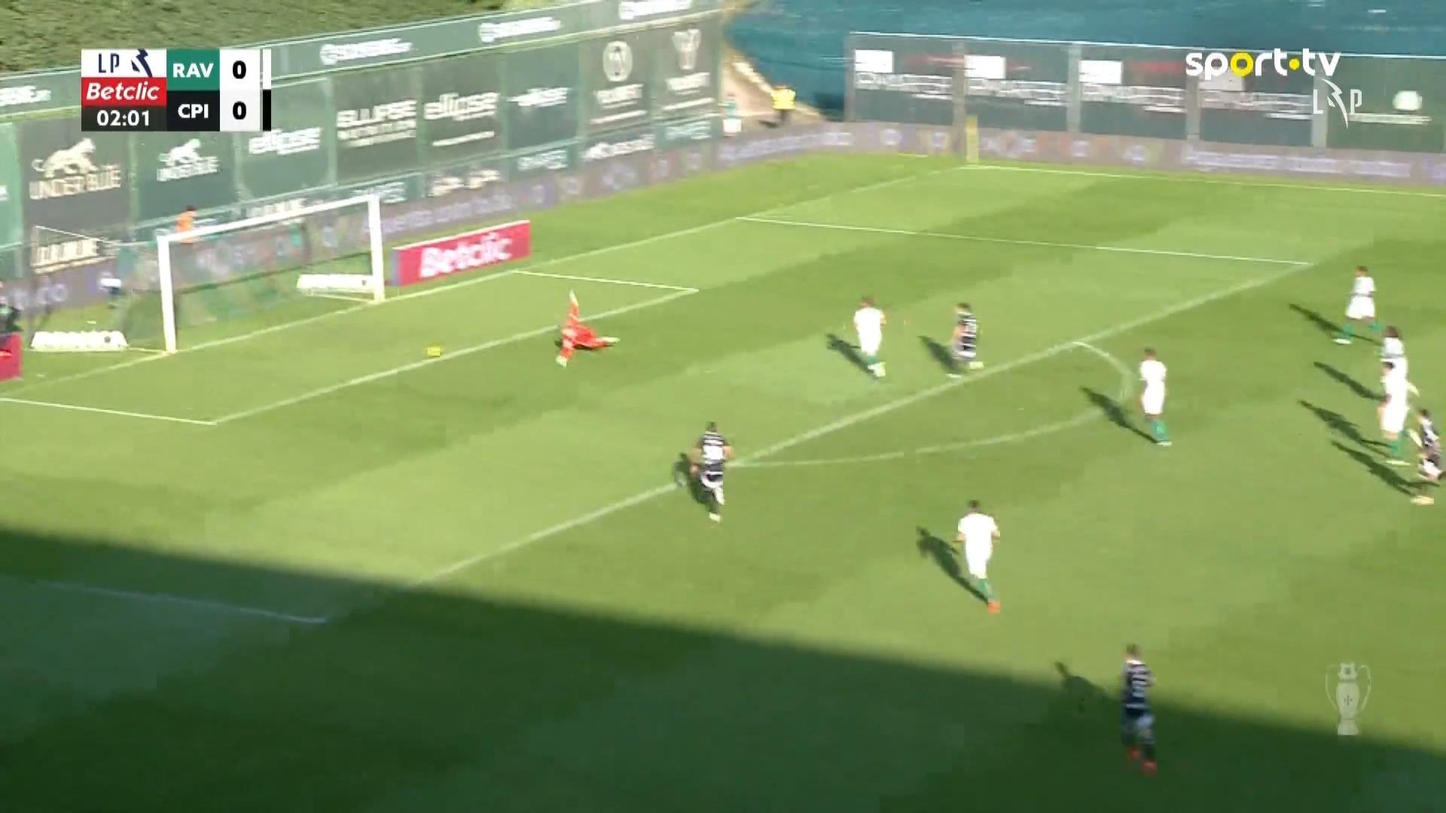ball: (1392, 89, 1422, 112), (426, 344, 442, 358)
goalkeeper: (553, 288, 619, 368)
player: (950, 498, 1002, 613), (1118, 641, 1158, 773), (1376, 358, 1418, 464), (690, 419, 733, 522), (1332, 263, 1380, 344), (1136, 346, 1172, 446), (852, 294, 887, 378), (947, 301, 984, 372), (1413, 406, 1443, 480), (1378, 324, 1408, 379)
